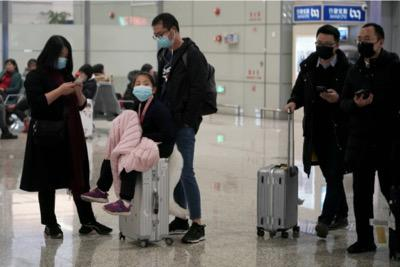with_mask: (356, 32, 379, 59), (315, 37, 337, 60), (152, 28, 172, 50), (132, 78, 152, 100), (52, 51, 67, 70)
without_mask: (4, 63, 12, 72)
